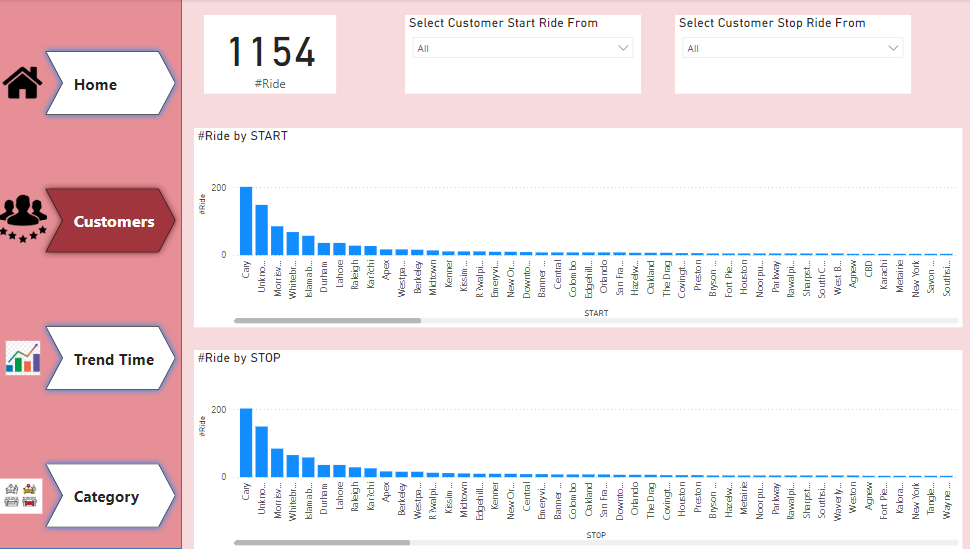

What the dashboard file says about the page in this screenshot:
{"tool":"powerbi","page":{"name":"Customers","canvas":[1280,720],"ordinal":1},"visuals":[{"type":"card","fields":{"Values":["Measure.#Ride"]},"box":[273.6,21.3,173.3,103.4],"z":0},{"type":"clusteredColumnChart","fields":{"Y":["Measure.#Ride"],"Category":["UberDataset.STOP"]},"box":[260,459.1,1006.4,261.5],"z":1000},{"type":"clusteredColumnChart","fields":{"Category":["UberDataset.START"],"Y":["Measure.#Ride"]},"box":[260,168.7,1006.4,261.5],"z":2000},{"type":"slicer","title":"Select Customer Start Ride From","fields":{"Values":["UberDataset.START"]},"box":[536.6,21.3,308.6,103.4],"z":3000},{"type":"slicer","title":"Select Customer Stop Ride From","fields":{"Values":["UberDataset.STOP"]},"box":[890.8,21.3,308.6,103.4],"z":4000},{"type":"shape","title":"Menu BG","box":[0,0,244.8,720],"z":5000},{"type":"pageNavigator","title":"Menu Buttons","box":[57.6,54.7,187.2,650],"z":6000},{"type":"image","box":[0,79,73,62.3],"z":7000},{"type":"image","box":[0,250.8,73,73],"z":8000},{"type":"image","box":[9.1,442.4,54.7,54.7],"z":9000},{"type":"image","box":[0,621.8,66.9,57.8],"z":10000}]}

Visuals, with their boxes in screenshot pixels (x1, y1, x2, y2), scaled from the page's 1280x720 canvas onto the 970x549 screenshot:
card - Measure.#Ride: select_region(207, 16, 339, 95)
clusteredColumnChart - Measure.#Ride x UberDataset.STOP: select_region(197, 350, 960, 548)
clusteredColumnChart - UberDataset.START x Measure.#Ride: select_region(197, 129, 960, 328)
"Select Customer Start Ride From" slicer: select_region(407, 16, 641, 95)
"Select Customer Stop Ride From" slicer: select_region(675, 16, 909, 95)
"Menu BG" shape: select_region(0, 0, 186, 548)
"Menu Buttons" pageNavigator: select_region(44, 42, 186, 537)
image: select_region(0, 60, 55, 108)
image: select_region(0, 191, 55, 247)
image: select_region(7, 337, 48, 379)
image: select_region(0, 474, 51, 518)
